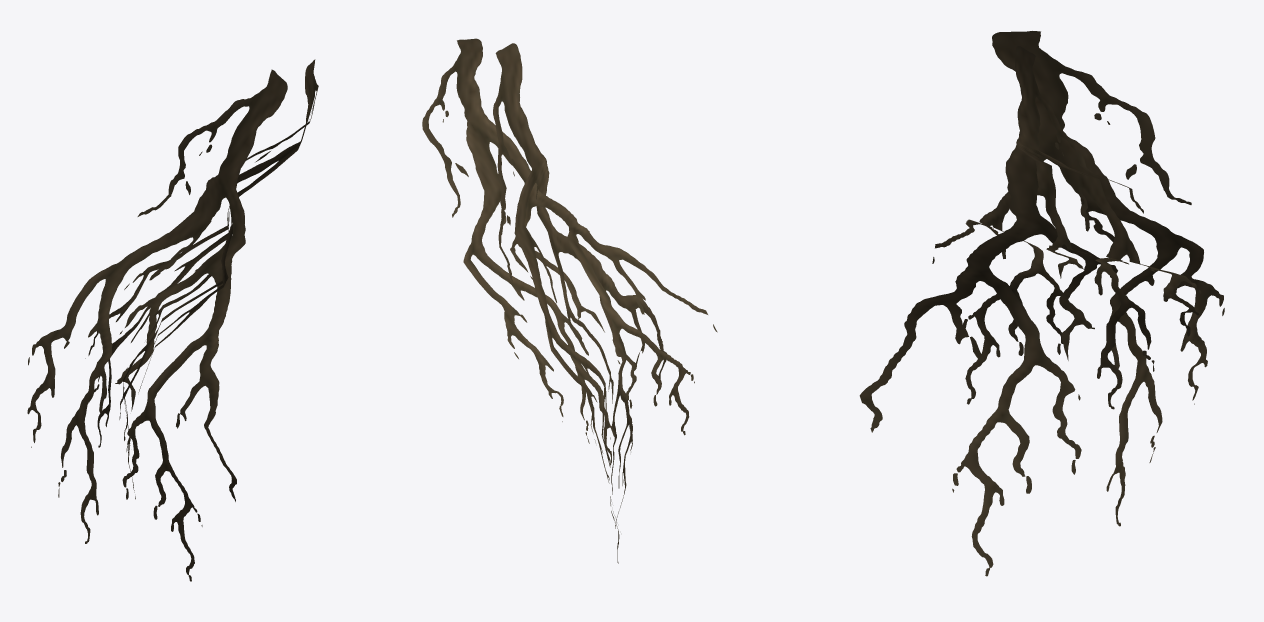
The model's file is dcfx_tengman_01.FBX.
The picture shows the model from 3 angles, left to right: view 1: azimuth 30°, elevation 25°; view 2: azimuth 150°, elevation 25°; view 3: azimuth 270°, elevation 25°; orthographic projection. The views are drawn at different scales.
Visible parts, largest first — view 1: dcfx_tengman_01; view 2: dcfx_tengman_01; view 3: dcfx_tengman_01.
Boxes of the visible parts, x1,y1,x2,y2 form: dcfx_tengman_01: [27, 59, 318, 581]; dcfx_tengman_01: [422, 38, 717, 563]; dcfx_tengman_01: [859, 31, 1224, 576].
Size of the model in its own units: 476 by 803 by 555.
